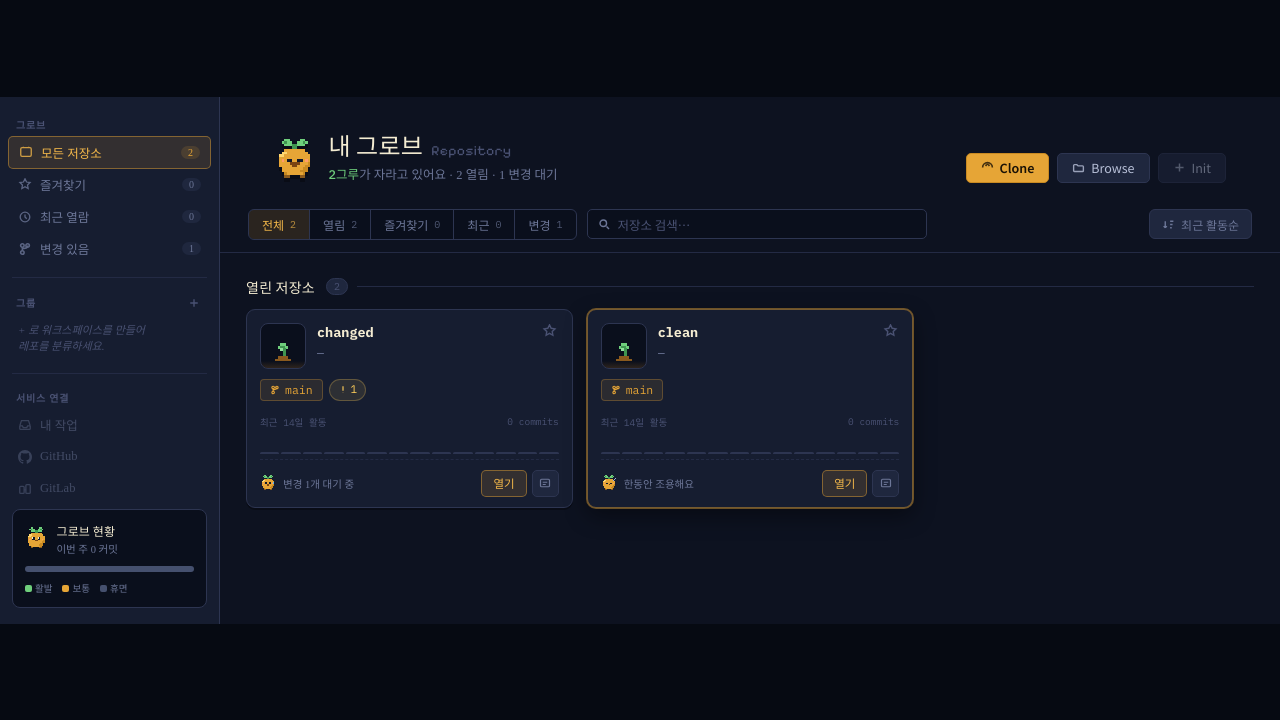
RepoManager — 그로브 카드 그리드 (RM2~RM4) › 세그먼트 "변경"은 dirty 레포만 보여준다
Click the button "변경 1".
click(546, 224)  # box [516, 210, 576, 239]
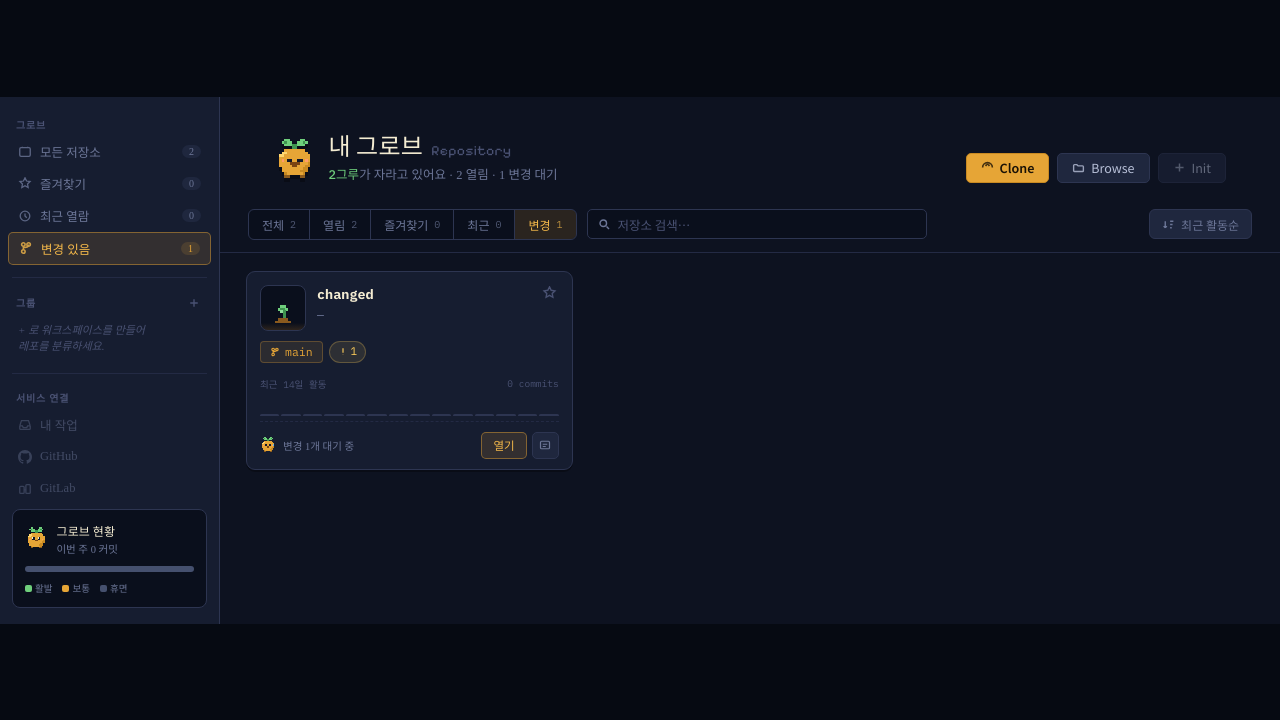
Expected: the text "changed" is shown, [317, 285, 374, 303]
Now the text "clean" is gone
